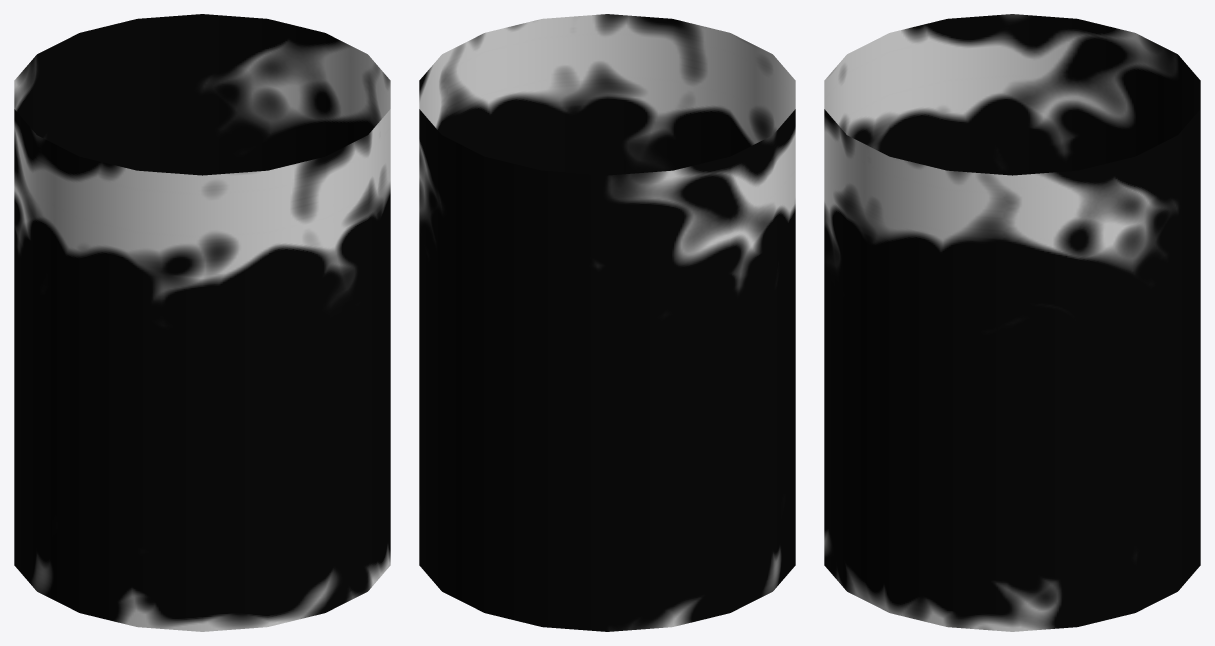
The model's file is mdh_JP01_cylinder_01.FBX.
The picture shows the model from 3 angles, left to right: view 1: azimuth 30°, elevation 25°; view 2: azimuth 150°, elevation 25°; view 3: azimuth 270°, elevation 25°; orthographic projection.
Visible parts, largest first — view 1: Cylinder001; view 2: Cylinder001; view 3: Cylinder001.
Boxes of the visible parts, x1,y1,x2,y2 form: Cylinder001: [14, 14, 390, 631]; Cylinder001: [419, 14, 795, 631]; Cylinder001: [824, 14, 1200, 631].
Size of the model in its own units: 24.76 by 32.62 by 24.38.
